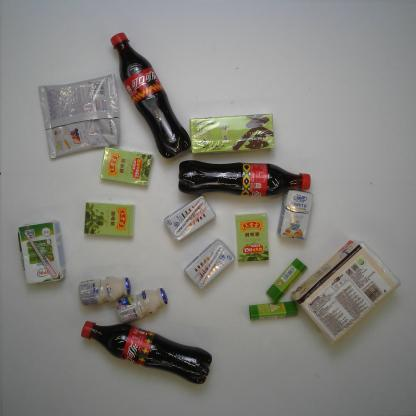Candy: (100, 144, 156, 187), (83, 198, 139, 240), (237, 215, 268, 264)
Drink: (110, 31, 190, 156), (80, 318, 212, 386), (176, 156, 316, 196)
Instant Drink: (34, 73, 122, 160), (189, 111, 277, 156)
Milk: (15, 221, 66, 285), (185, 238, 236, 290), (163, 195, 215, 240), (114, 287, 170, 326), (276, 189, 314, 242), (77, 274, 132, 308)
Stationery: (266, 257, 307, 304), (248, 300, 300, 322)
Tissue: (290, 240, 402, 342)
